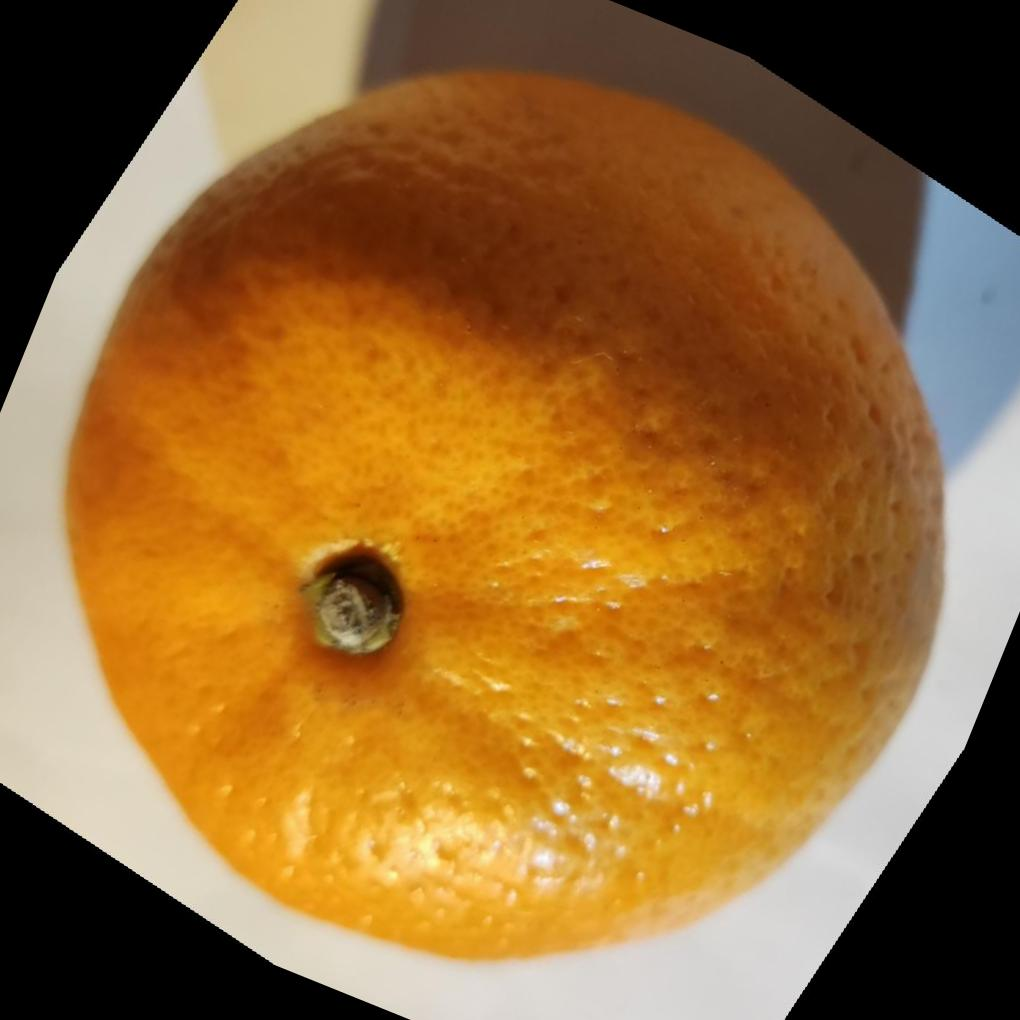FreshGuava: (62, 69, 948, 968)
